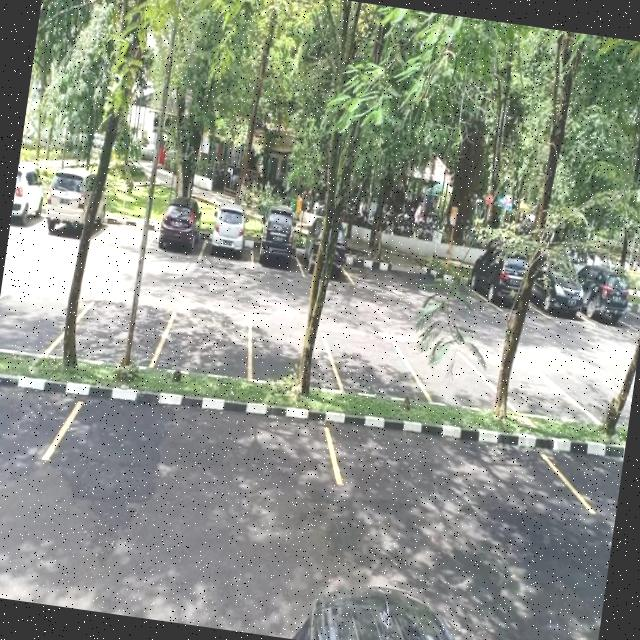empty: (51, 383, 347, 516), (328, 421, 572, 526), (72, 294, 169, 370), (159, 312, 256, 382), (246, 321, 340, 390), (326, 332, 416, 402), (410, 340, 500, 410), (0, 275, 72, 358), (96, 198, 158, 258)
occupied: (146, 202, 210, 265), (251, 214, 307, 276), (200, 210, 258, 268)
